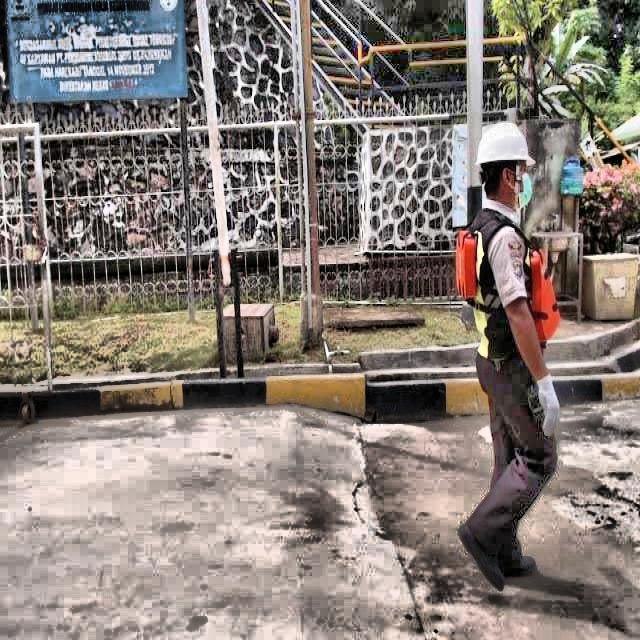safety_jacket: (455, 217, 563, 364)
